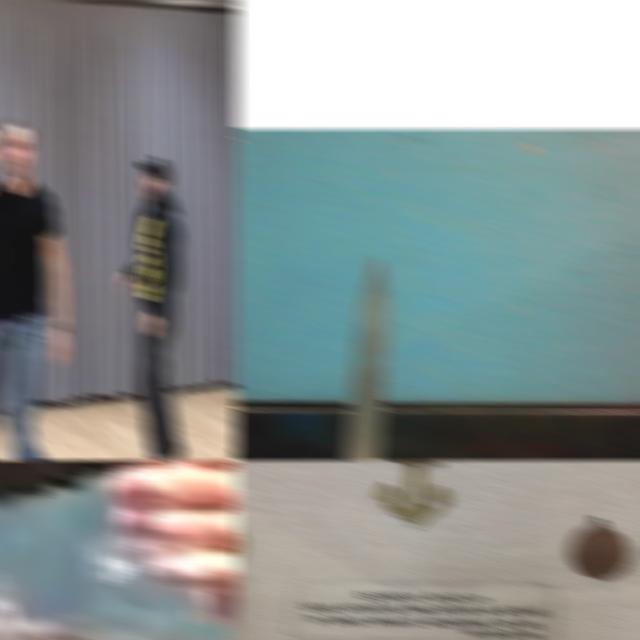Knife: (343, 256, 392, 460)
